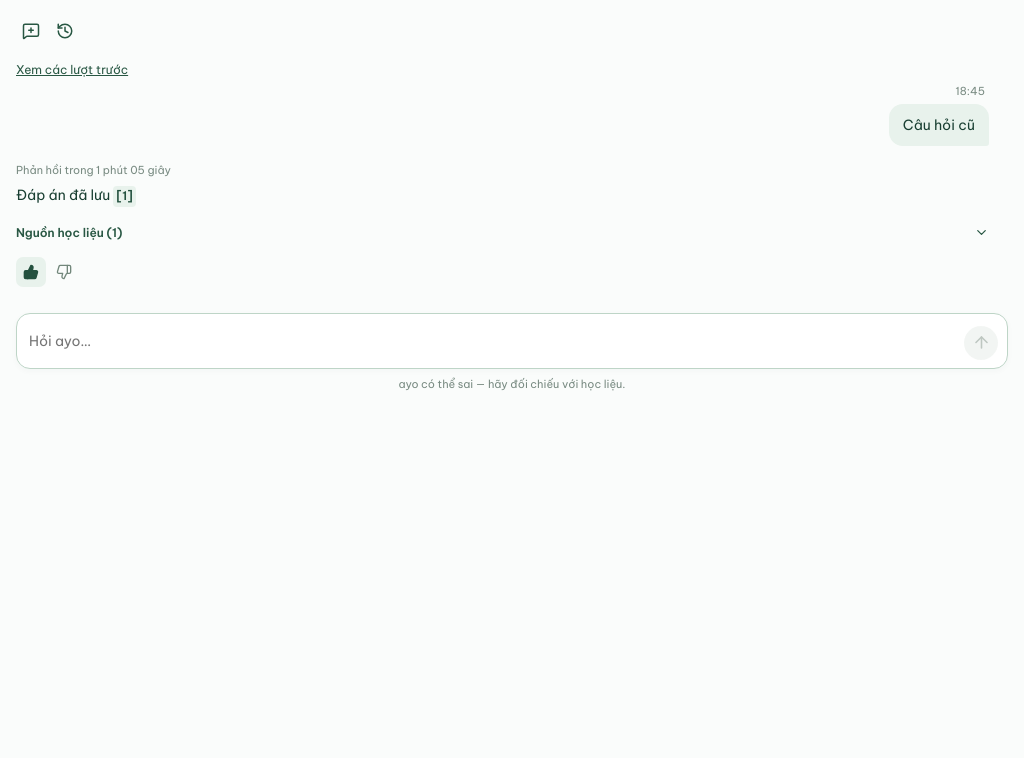
keeps a new reply last when loading older turns
expect the text "Câu hỏi cũ" is shown: met, box [889,104,989,146]
Step 1. Type "Lượt mới nhất" into the text box → (492, 341), box [29,325,956,357]
Then press Enter
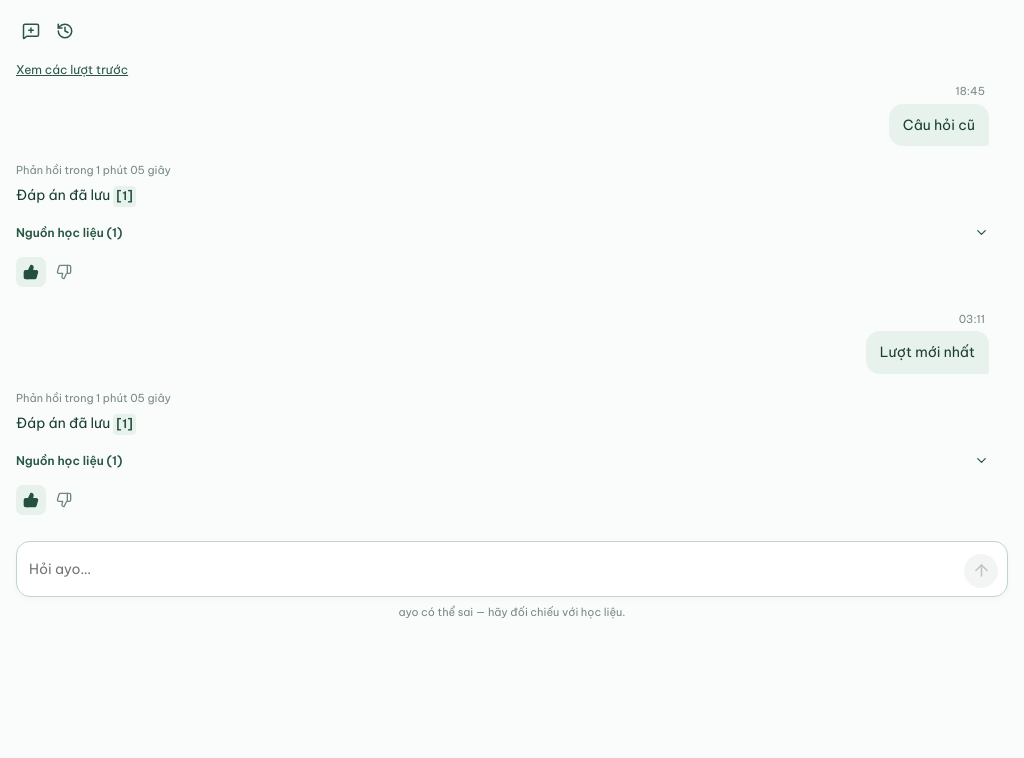
expect the text box is enabled: met, box [29,553,956,585]
Step 2. Click the button "Xem các lượt trước" → (72, 70), box [16,58,128,81]
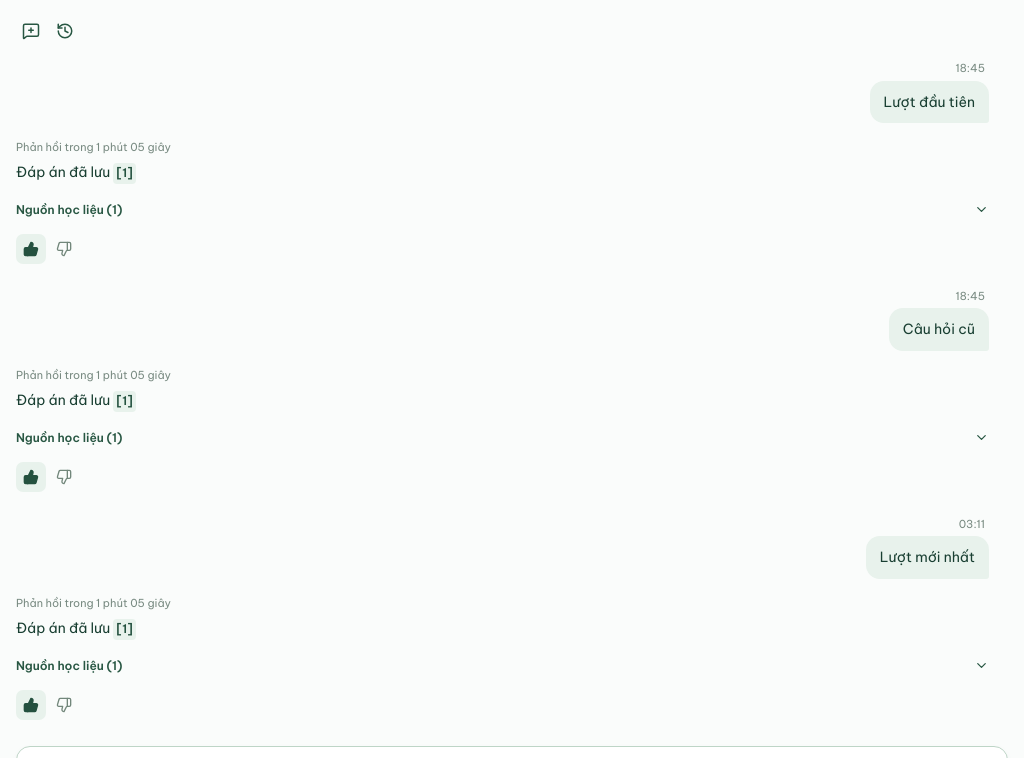
expect the text "Lượt đầu tiên" is shown: met, box [870,80,989,123]
